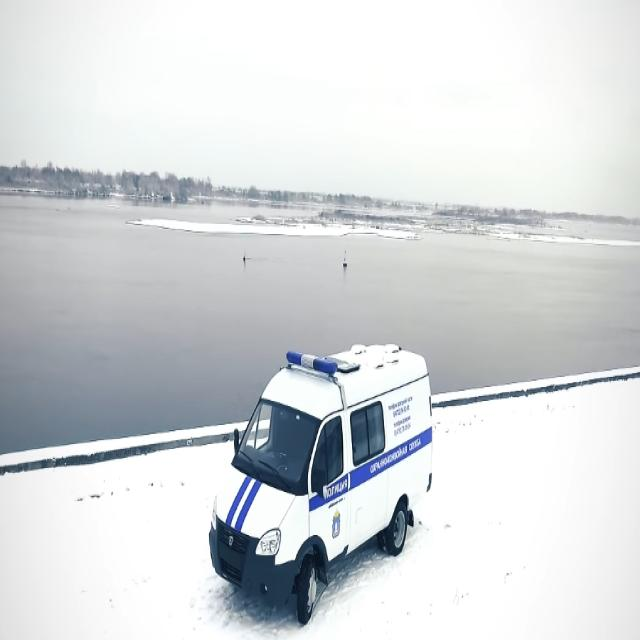police car: (207, 337, 437, 630)
